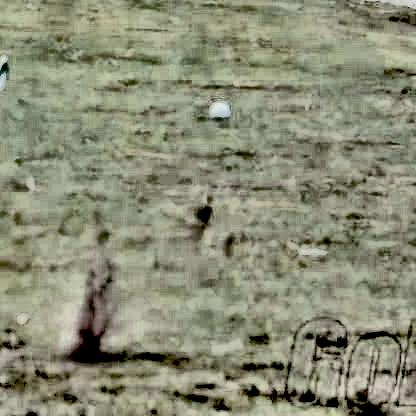golfball: (206, 99, 227, 120)
